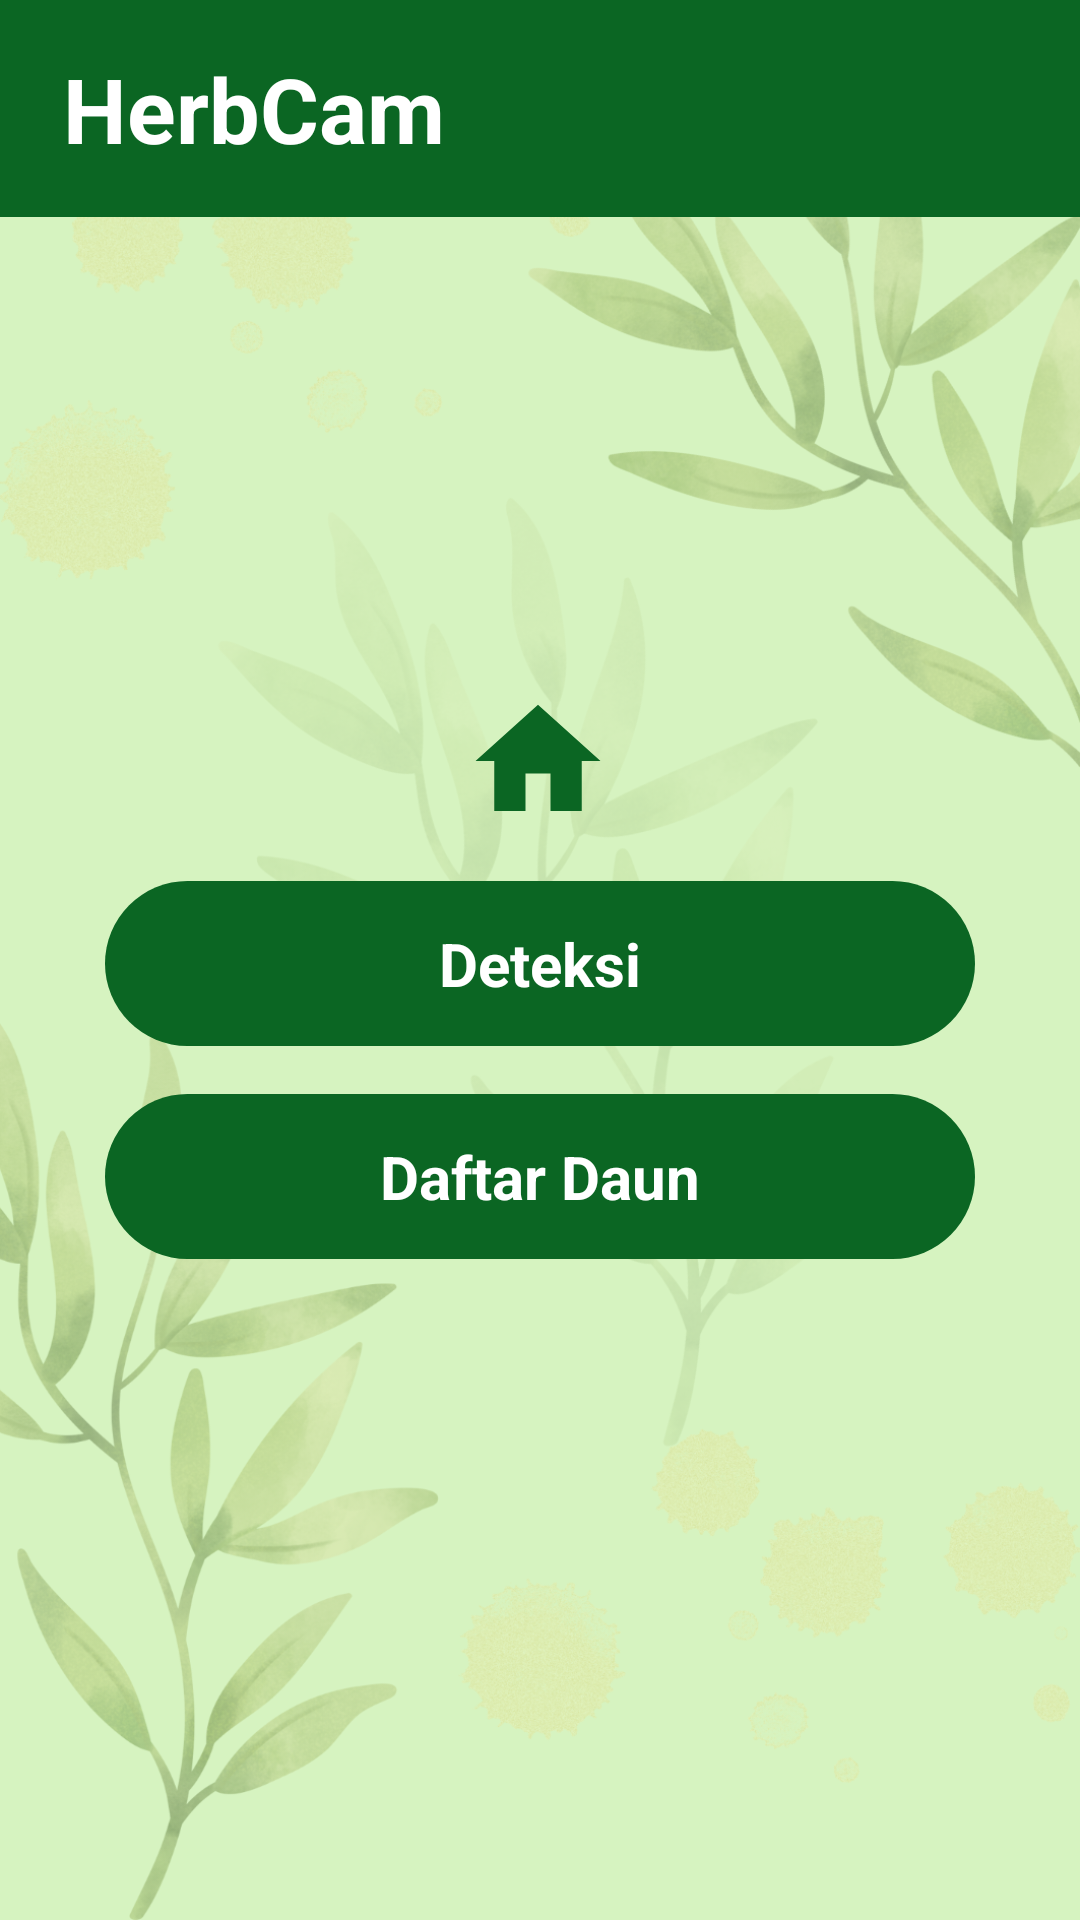

Icons on this 1080 x 1920 Android screen, each with its box as [x1=x1, y1=y1, x2=x2, y2=y2]:
home: [x1=476, y1=705, x2=600, y2=811]
